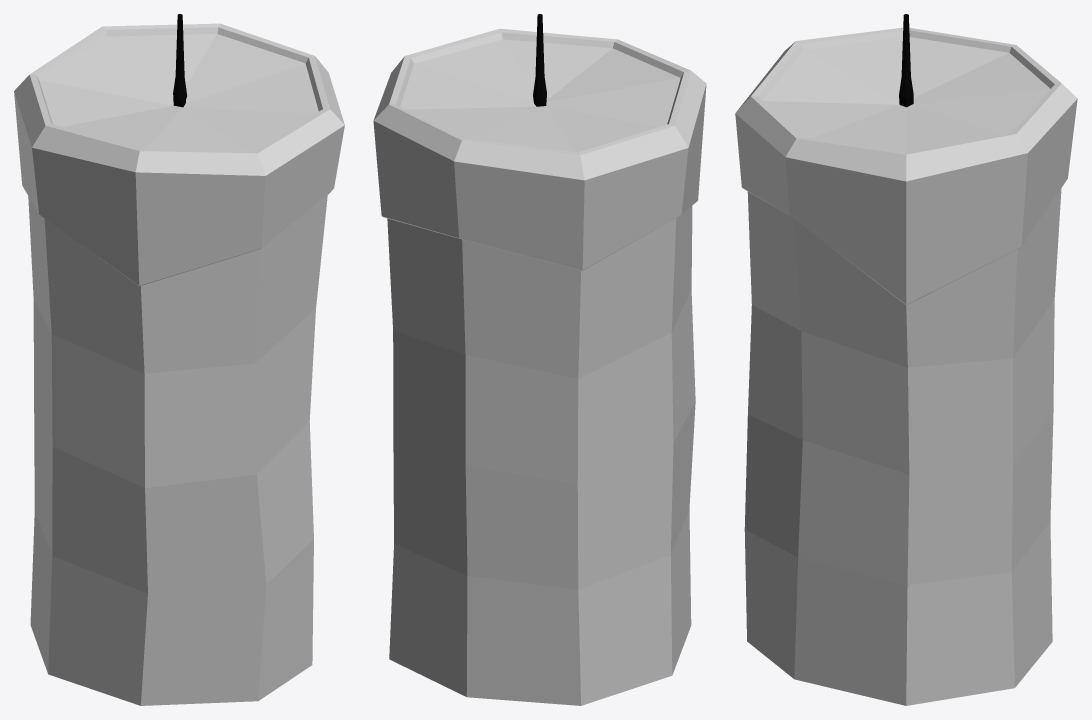
File: candle__.glb
3 views of the same model, side by side, from view 1: azimuth 30°, elevation 25°; view 2: azimuth 150°, elevation 25°; view 3: azimuth 270°, elevation 25° (orthographic).
Parts seen in each view (by area): view 1: candle_!; view 2: candle_!; view 3: candle_!.
Part boxes in pixels (<box>): candle_!: <box>14,14,344,705</box>; candle_!: <box>373,14,706,705</box>; candle_!: <box>735,14,1077,705</box>.
Bounding box in the file's own units: 0.0474 × 0.0958 × 0.0474.
1 material, 1 textured.
